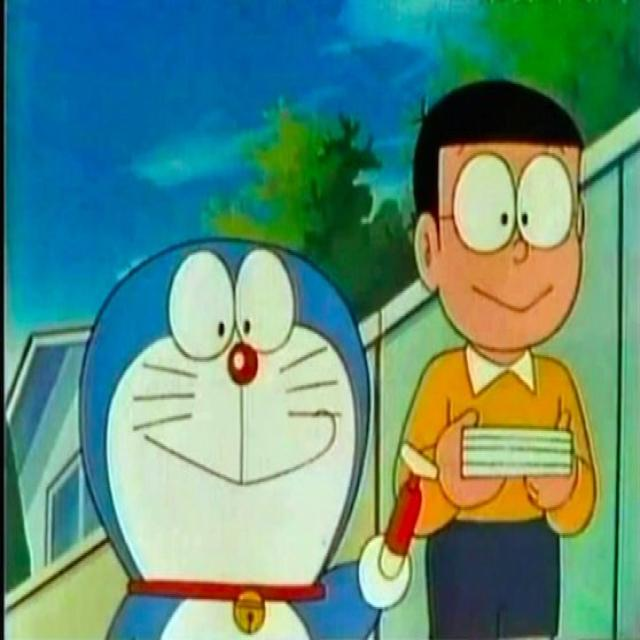doraemon: (71, 226, 380, 634)
nobita: (402, 73, 596, 375)
